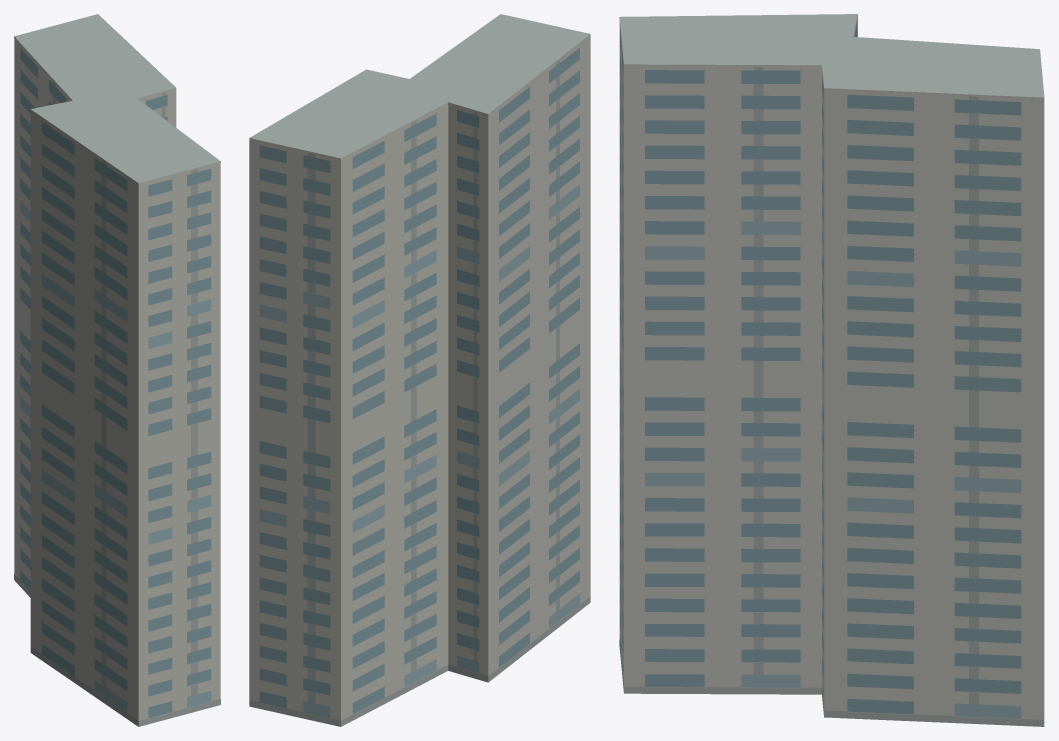
The model's file is residential-e4803849-3cb9-4411-a073-0b228fa8bd39.glb.
3 renders of one model, left to right at view 1: azimuth 30°, elevation 25°; view 2: azimuth 150°, elevation 25°; view 3: azimuth 270°, elevation 25°, orthographic. The views are drawn at different scales.
Visible parts, largest first — view 1: residential-e4803849-3cb9-4411-a073-0b228fa8bd39.tmp; view 2: residential-e4803849-3cb9-4411-a073-0b228fa8bd39.tmp; view 3: residential-e4803849-3cb9-4411-a073-0b228fa8bd39.tmp.
Boxes of the visible parts, <box> form: residential-e4803849-3cb9-4411-a073-0b228fa8bd39.tmp: <box>14,14,220,726</box>; residential-e4803849-3cb9-4411-a073-0b228fa8bd39.tmp: <box>249,14,590,726</box>; residential-e4803849-3cb9-4411-a073-0b228fa8bd39.tmp: <box>619,14,1044,726</box>.
Bounding box in the file's own units: 23.95 × 84 × 51.42.
